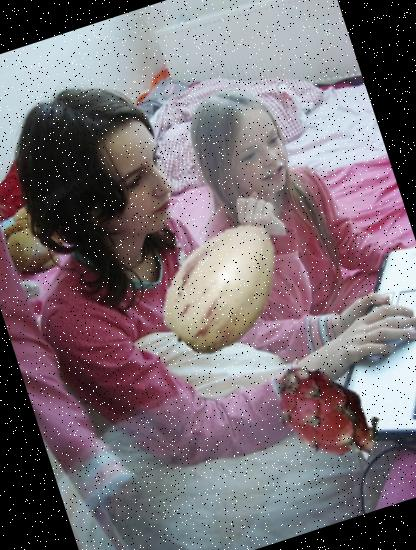Pepino: (134, 195, 314, 376)
Pitahaya: (250, 347, 394, 491)
